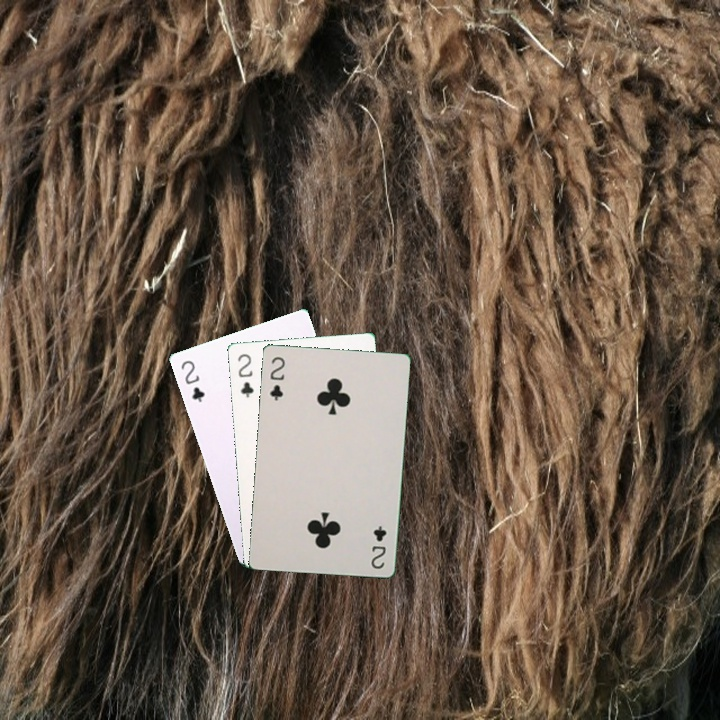2c: (177, 356, 207, 405), (234, 350, 256, 400), (265, 353, 287, 403), (367, 521, 389, 571)
